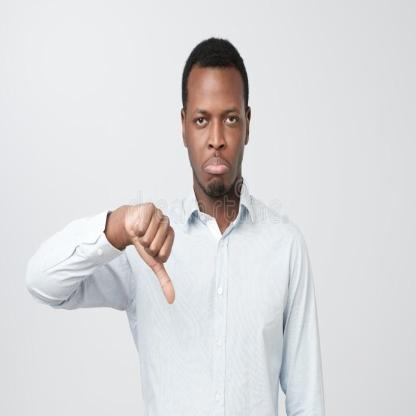Thumbs-Down: (124, 200, 177, 307)
